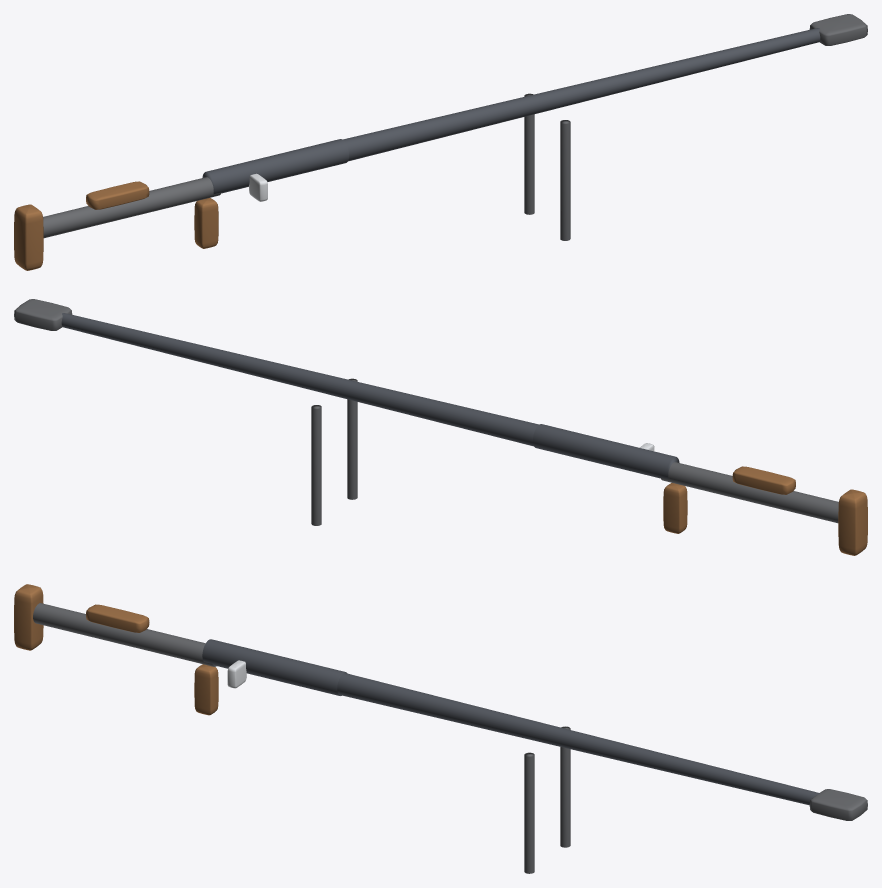
Rendered from ptrd41-reg.glb.
The picture shows the model from 3 angles, top to bottom: view 1: azimuth 30°, elevation 25°; view 2: azimuth 150°, elevation 25°; view 3: azimuth 330°, elevation 25°; orthographic projection.
Visible parts, largest first — view 1: barrel_1216mm, receiver_cyl, stock_tube, shoulder_pad, bipod_leg_R, muzzle_brake_ptrd, cheek_rest, pistol_grip, bipod_leg_L; view 2: barrel_1216mm, receiver_cyl, stock_tube, shoulder_pad, bipod_leg_L, muzzle_brake_ptrd, cheek_rest, pistol_grip, bipod_leg_R; view 3: barrel_1216mm, stock_tube, receiver_cyl, shoulder_pad, muzzle_brake_ptrd, bipod_leg_R, cheek_rest, pistol_grip, bipod_leg_L.
Boxes of the visible parts, x1=… form: barrel_1216mm: x1=343, y1=28, x2=820, y2=161; receiver_cyl: x1=202, y1=139, x2=348, y2=194; stock_tube: x1=43, y1=177, x2=221, y2=238; shoulder_pad: x1=14, y1=204, x2=43, y2=270; bipod_leg_R: x1=560, y1=120, x2=570, y2=240; muzzle_brake_ptrd: x1=809, y1=14, x2=867, y2=45; cheek_rest: x1=86, y1=181, x2=149, y2=209; pistol_grip: x1=194, y1=198, x2=218, y2=248; bipod_leg_L: x1=524, y1=93, x2=534, y2=214; barrel_1216mm: x1=61, y1=313, x2=538, y2=446; receiver_cyl: x1=533, y1=424, x2=679, y2=479; stock_tube: x1=660, y1=462, x2=838, y2=523; shoulder_pad: x1=838, y1=489, x2=867, y2=555; bipod_leg_L: x1=311, y1=405, x2=321, y2=525; muzzle_brake_ptrd: x1=14, y1=299, x2=72, y2=330; cheek_rest: x1=732, y1=466, x2=795, y2=494; pistol_grip: x1=663, y1=483, x2=687, y2=533; bipod_leg_R: x1=347, y1=378, x2=357, y2=499; barrel_1216mm: x1=337, y1=673, x2=819, y2=805; stock_tube: x1=33, y1=603, x2=216, y2=666; receiver_cyl: x1=202, y1=639, x2=347, y2=695; shoulder_pad: x1=14, y1=584, x2=43, y2=650; muzzle_brake_ptrd: x1=809, y1=789, x2=867, y2=820; bipod_leg_R: x1=524, y1=752, x2=534, y2=873; cheek_rest: x1=86, y1=604, x2=149, y2=632; pistol_grip: x1=194, y1=664, x2=218, y2=715; bipod_leg_L: x1=560, y1=726, x2=570, y2=847.
Bounding box in the file's own units: 2.04 × 0.3325 × 0.172.
